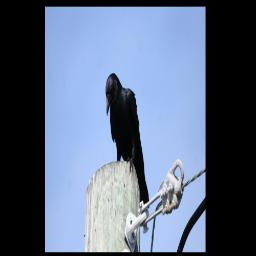Crow: (105, 72, 150, 211)
